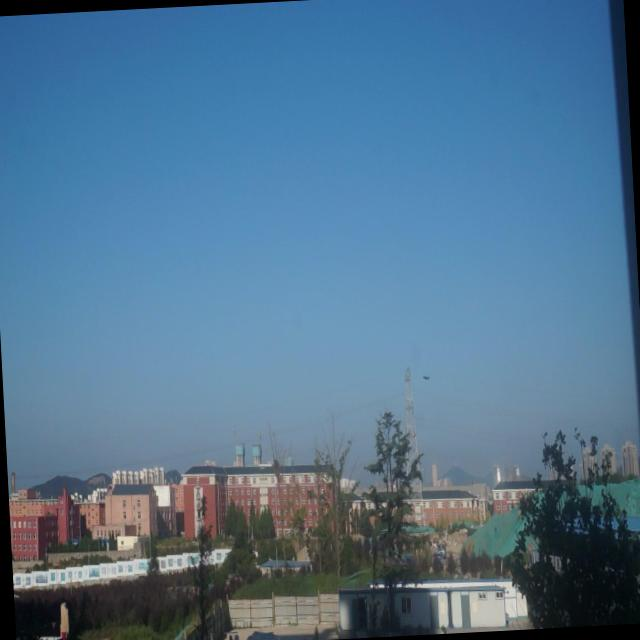drone: (422, 370, 432, 388)
